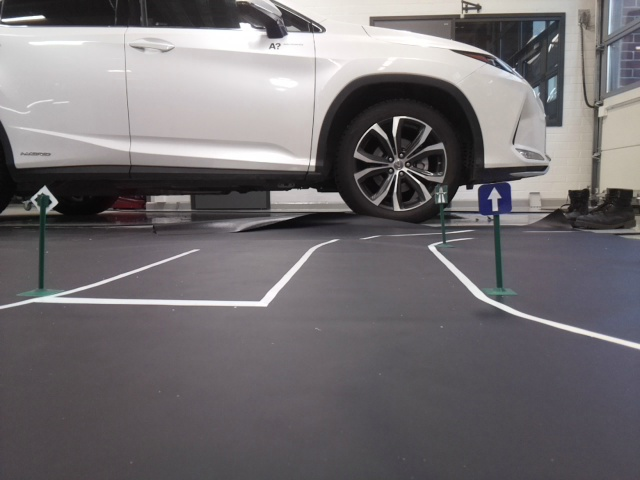HighwayEntrance: (433, 186, 447, 202)
OneWay: (477, 185, 510, 214)
